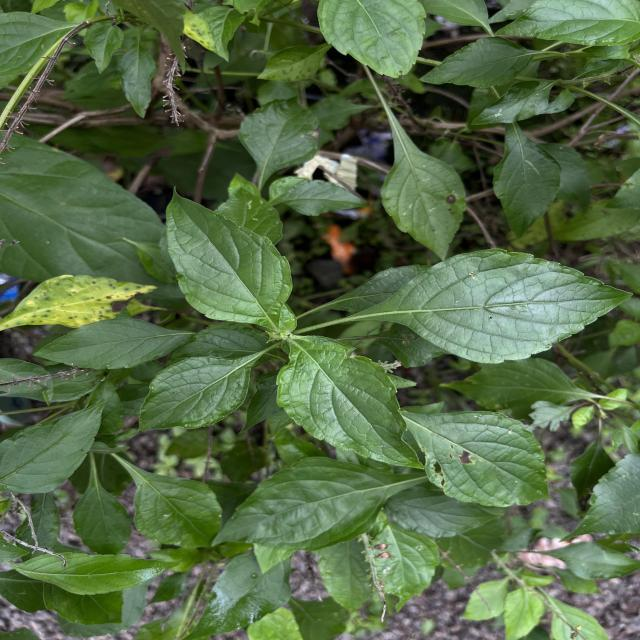Ocimum gratissimum: (320, 247, 636, 366), (208, 454, 432, 552), (274, 335, 426, 471), (163, 182, 294, 334), (399, 408, 554, 508), (378, 95, 468, 263), (1, 396, 107, 496), (136, 347, 254, 434), (314, 0, 430, 83), (32, 316, 195, 370), (235, 92, 321, 190), (491, 124, 563, 241), (6, 550, 181, 596), (416, 34, 562, 89), (493, 0, 640, 47)
